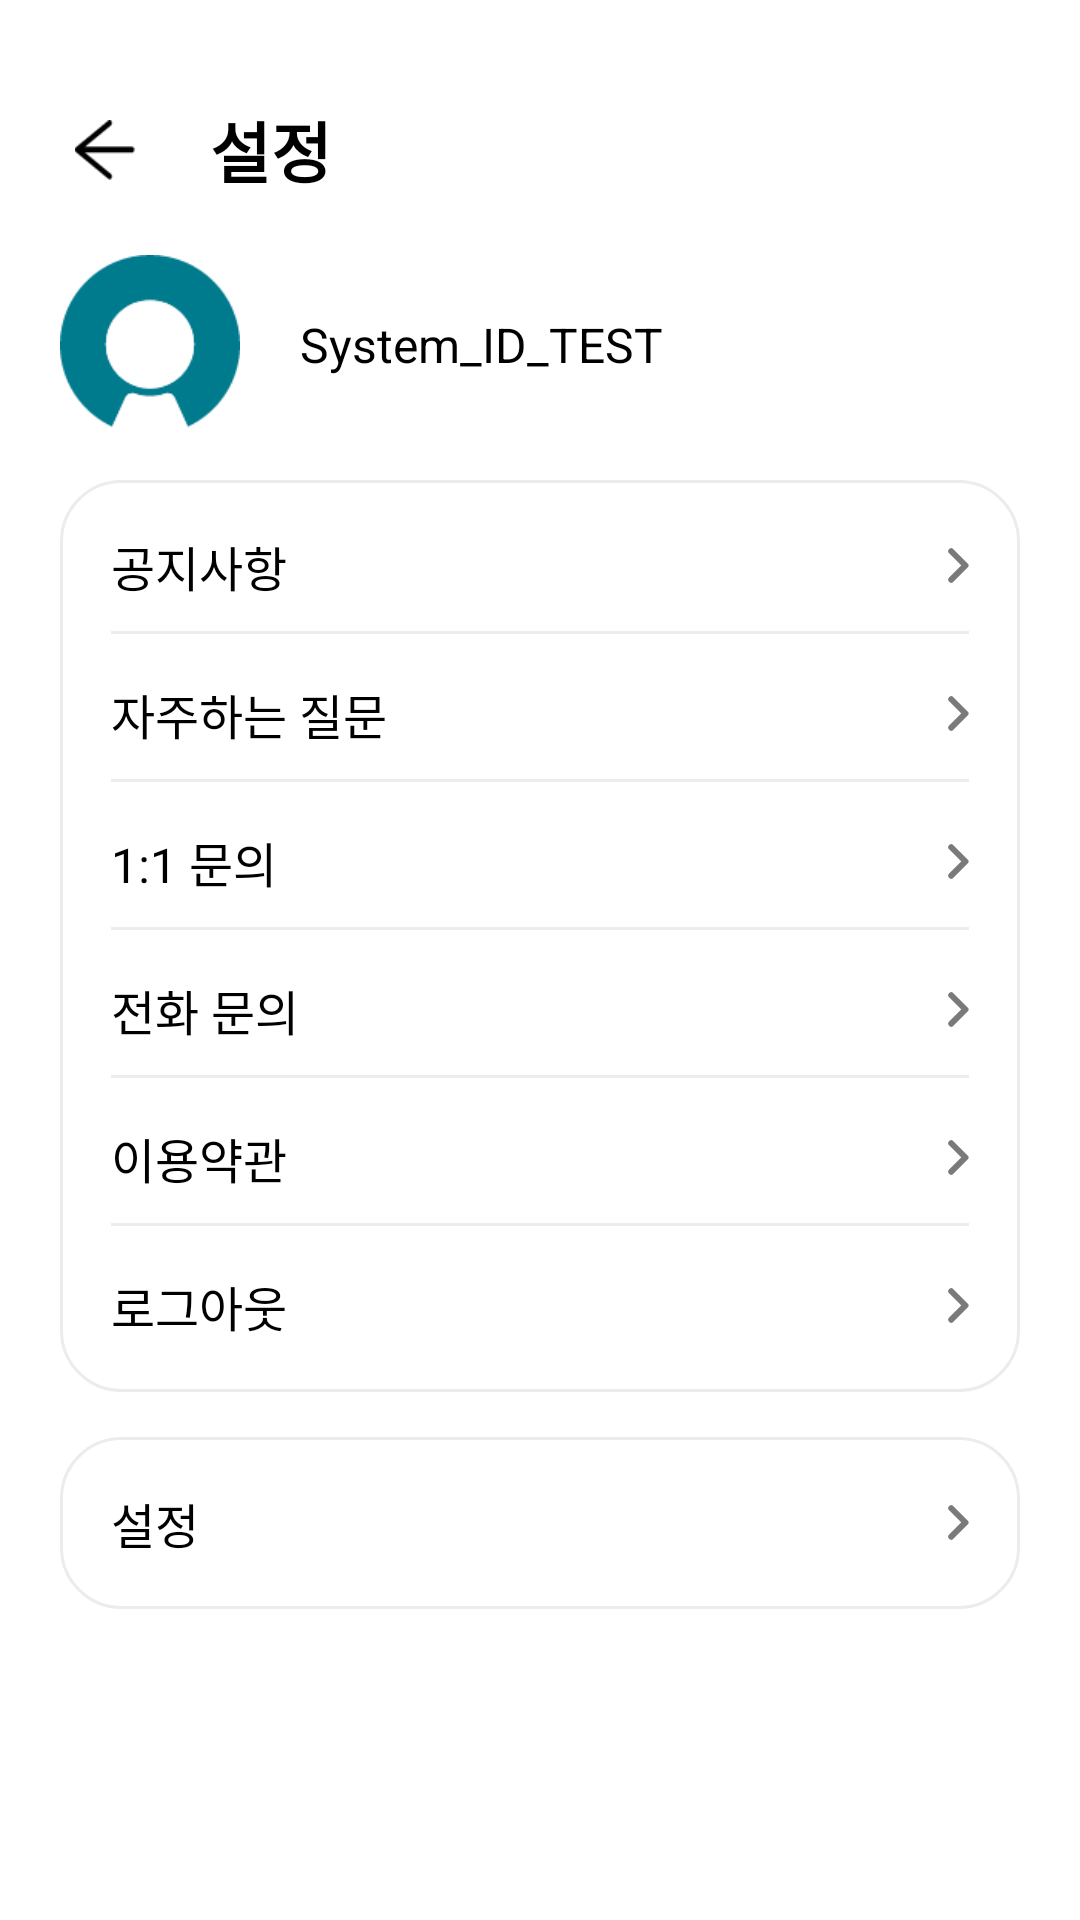

Locate icon controls on the screen. Image size 1080w x 1920h, boxes as box=[x1, y1, x2, y2].
back: box=[75, 120, 135, 180]
profile: box=[60, 255, 240, 428]
